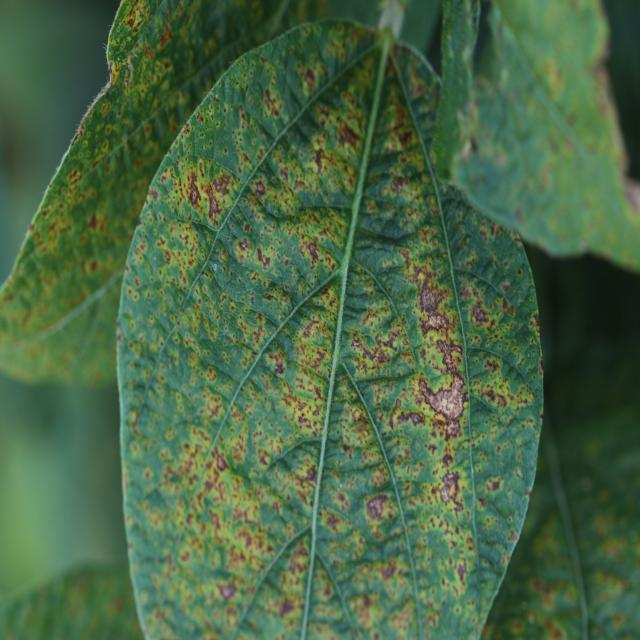Bacterial_Blight: (194, 447, 251, 520), (286, 315, 340, 378), (592, 60, 626, 148), (420, 379, 472, 429), (74, 75, 113, 140), (351, 326, 404, 371), (335, 406, 381, 452), (417, 281, 449, 325), (335, 240, 358, 290), (377, 1, 405, 41), (439, 471, 460, 504), (338, 119, 360, 148), (366, 493, 389, 519), (186, 172, 203, 207), (624, 181, 640, 217), (263, 85, 282, 115), (204, 185, 221, 218), (158, 11, 173, 48), (471, 301, 490, 323), (123, 53, 135, 83), (390, 175, 408, 195), (256, 245, 271, 268), (460, 136, 473, 162), (109, 57, 122, 83), (218, 582, 236, 600), (313, 148, 326, 171), (303, 67, 316, 89), (382, 559, 397, 578), (70, 125, 82, 147), (129, 409, 140, 433), (280, 598, 295, 615), (457, 561, 468, 584), (271, 357, 285, 375), (409, 411, 424, 426), (215, 453, 227, 471), (307, 242, 319, 260), (86, 212, 98, 230), (69, 169, 81, 186), (306, 465, 317, 483), (487, 478, 501, 492), (442, 451, 454, 467), (254, 179, 265, 196), (126, 11, 137, 28), (179, 119, 190, 134), (514, 206, 524, 222), (581, 240, 591, 254), (239, 239, 248, 251), (164, 251, 171, 264), (197, 112, 204, 123), (212, 262, 218, 272)
Soybean: (117, 21, 543, 638)
